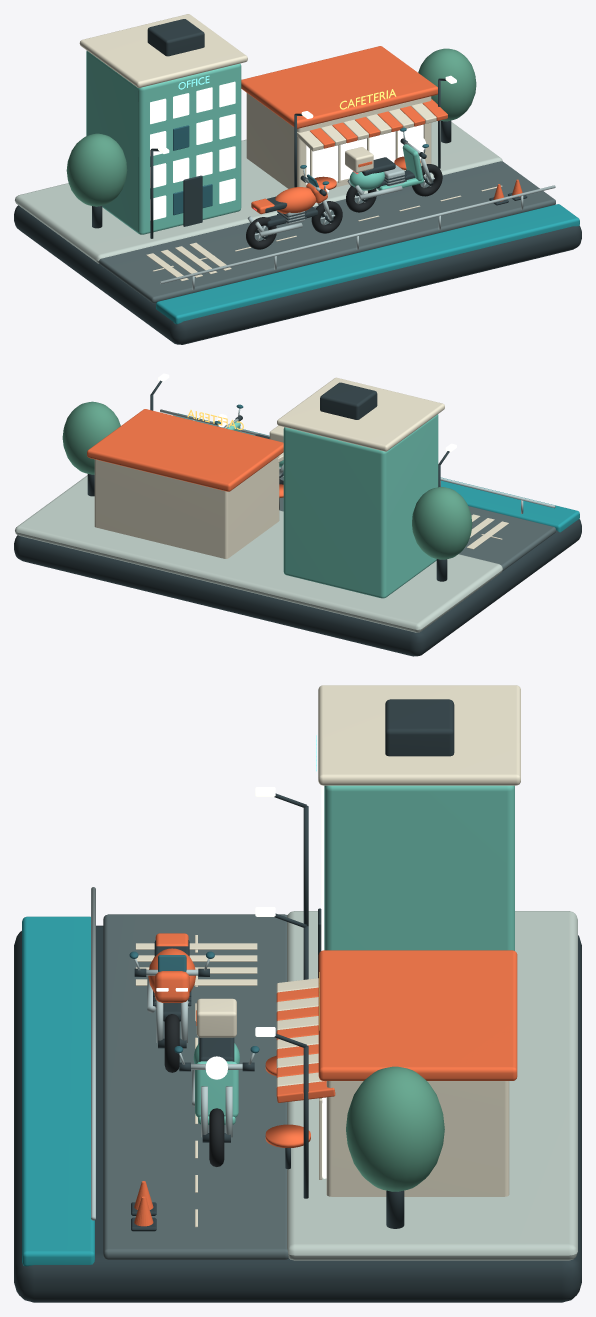
Rendered from city_night.glb.
The picture shows the model from 3 angles, top to bottom: view 1: azimuth 30°, elevation 25°; view 2: azimuth 150°, elevation 25°; view 3: azimuth 270°, elevation 25°; orthographic projection. The views are drawn at different scales.
Visible parts, largest first — view 1: LR Street.001, LR Office tower.001, LR Diorama foundation.001, LR Canal.001, LR Sidewalk.001, LR Cafe roof.001, LR Office roof.001, LR Cafeteria.001, LR Tree canopy.002, LR Tree canopy.003, LR Cafe windows.001, LR Rooftop plant.001 (+10 smaller); view 2: LR Office tower.001, LR Sidewalk.001, LR Diorama foundation.001, LR Cafeteria.001, LR Cafe roof.001, LR Office roof.001, LR Tree canopy.002, LR Street.001, LR Canal.001, LR Tree canopy.003, LR Rooftop plant.001, LR Canal handrail.001; view 3: LR Street.001, LR Sidewalk.001, LR Office tower.001, LR Diorama foundation.001, LR Cafe roof.001, LR Canal.001, LR Office roof.001, LR Cafeteria.001, LR Tree canopy.003, LR Rooftop plant.001, LR Canal handrail.001, LR Delivery box.002 (+8 smaller).
Boxes of the visible parts, x1,y1,x2,y2 form: LR Street.001: [99, 161, 555, 303]; LR Office tower.001: [86, 50, 241, 234]; LR Diorama foundation.001: [14, 205, 581, 344]; LR Canal.001: [156, 204, 579, 324]; LR Sidewalk.001: [15, 121, 502, 263]; LR Cafe roof.001: [241, 46, 437, 128]; LR Office roof.001: [79, 14, 247, 87]; LR Cafeteria.001: [246, 93, 431, 188]; LR Tree canopy.002: [66, 133, 127, 206]; LR Tree canopy.003: [418, 48, 476, 121]; LR Cafe windows.001: [306, 124, 423, 184]; LR Rooftop plant.001: [147, 19, 204, 56]; LR Office tower.001: [283, 414, 438, 598]; LR Sidewalk.001: [15, 475, 502, 632]; LR Diorama foundation.001: [14, 519, 581, 656]; LR Cafeteria.001: [94, 456, 279, 558]; LR Cafe roof.001: [87, 409, 283, 491]; LR Office roof.001: [277, 377, 444, 451]; LR Tree canopy.002: [412, 487, 472, 559]; LR Street.001: [279, 467, 555, 571]; LR Canal.001: [173, 413, 579, 532]; LR Tree canopy.003: [62, 401, 120, 474]; LR Rooftop plant.001: [320, 382, 377, 419]; LR Canal handrail.001: [160, 409, 555, 508]; LR Street.001: [103, 914, 288, 1259]; LR Sidewalk.001: [287, 911, 577, 1260]; LR Office tower.001: [324, 785, 514, 950]; LR Diorama foundation.001: [14, 925, 581, 1302]; LR Cafe roof.001: [318, 950, 517, 1080]; LR Canal.001: [22, 916, 94, 1266]; LR Office roof.001: [318, 685, 520, 785]; LR Cafeteria.001: [326, 1081, 509, 1196]; LR Tree canopy.003: [346, 1066, 444, 1191]; LR Rooftop plant.001: [385, 699, 454, 756]; LR Canal handrail.001: [91, 887, 95, 1220]; LR Delivery box.002: [196, 998, 236, 1037].
Bounding box in the file's own units: 10 × 4.79 × 7.
